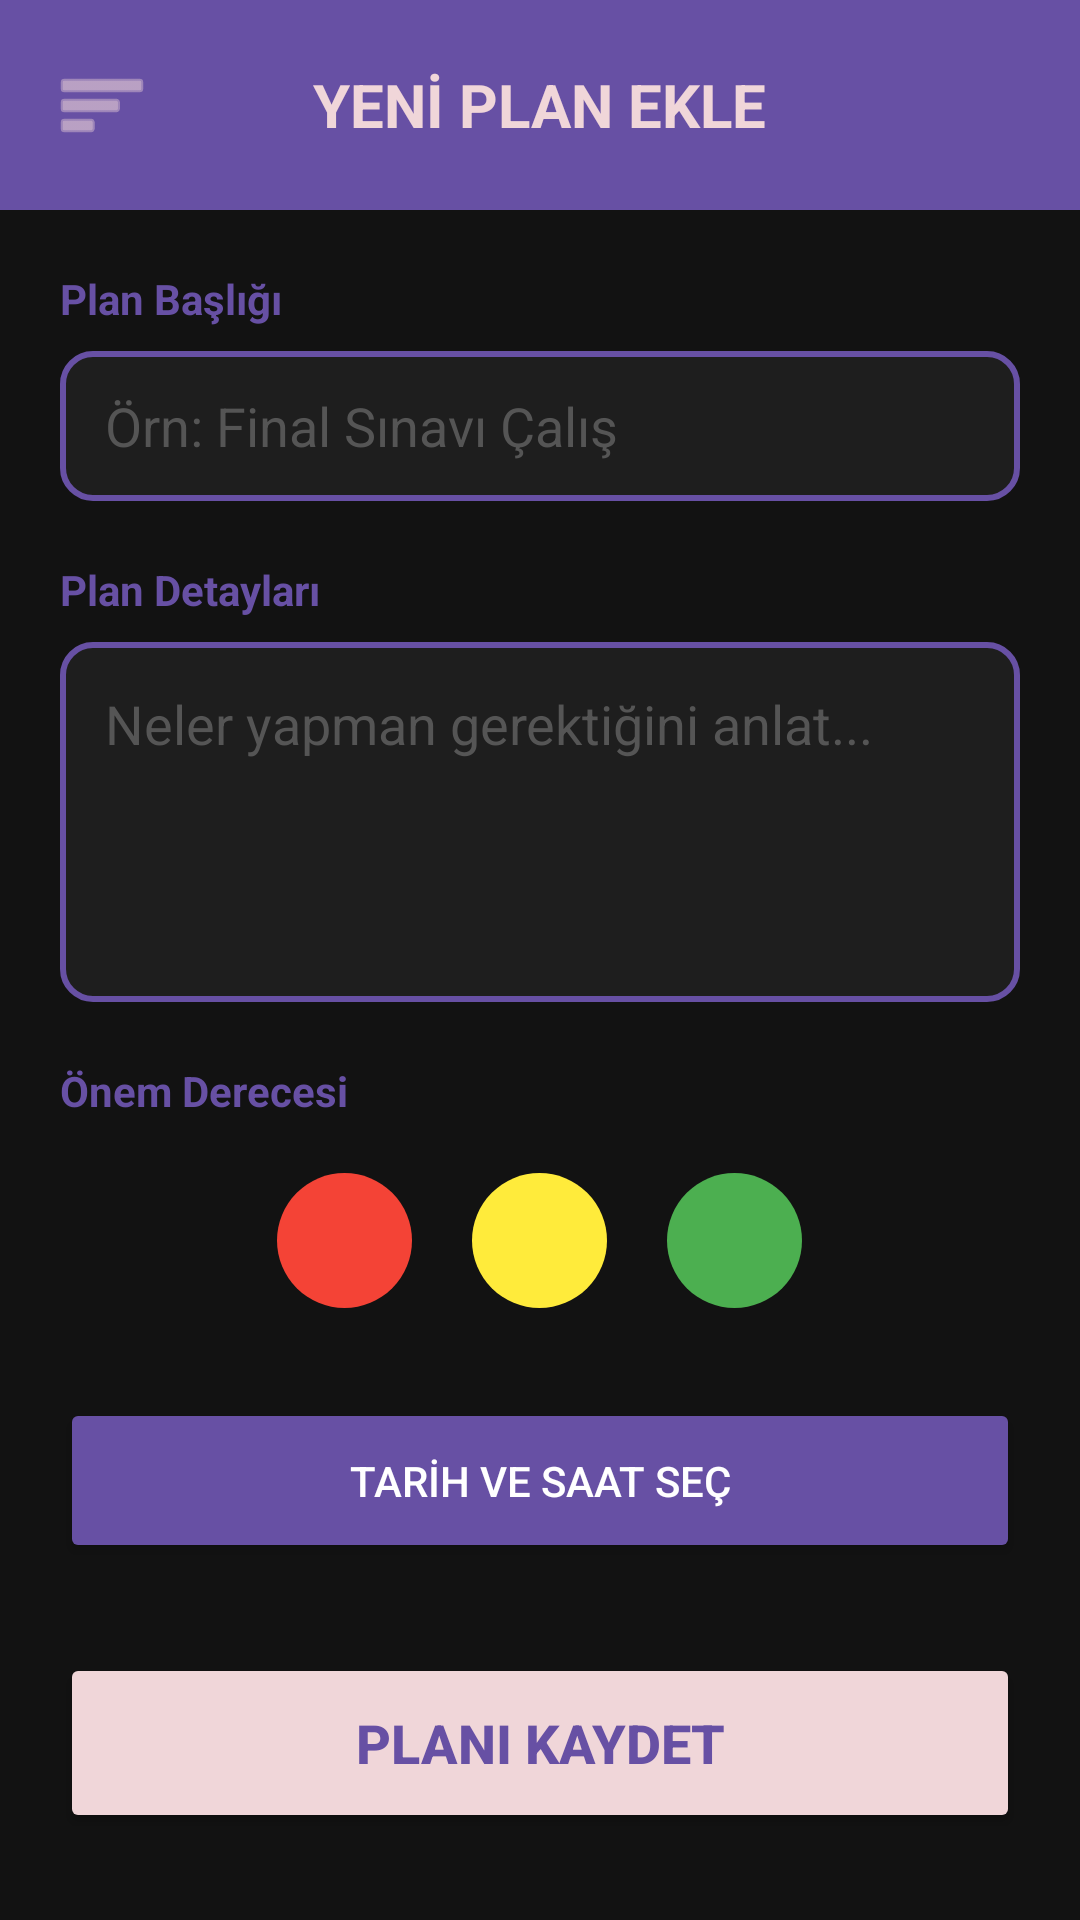

Icons on this 1080px x 1920px Android screen, each with its box as BBox(x1, y1, x2, y2):
Menü Aç: BBox(61, 79, 143, 132)
